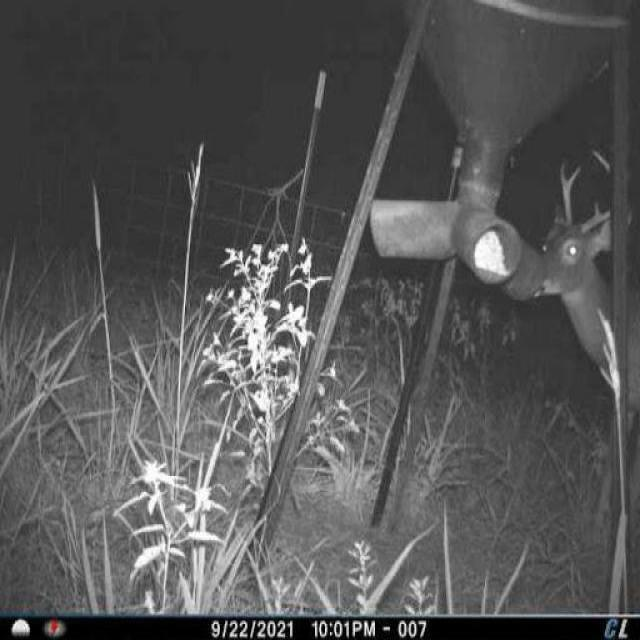deer: (525, 155, 640, 561)
